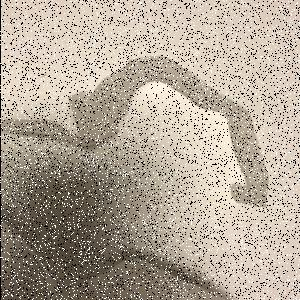Trash: (2, 56, 273, 300)
